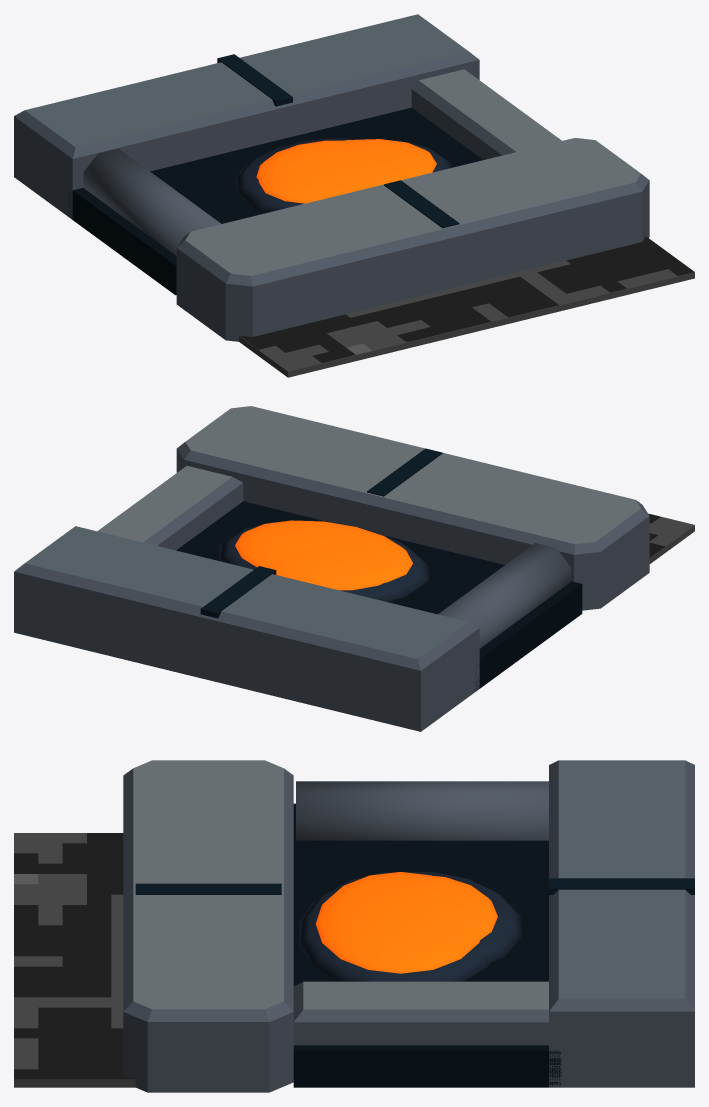
Rendered from newshm-7.glb.
The picture shows the model from 3 angles, top to bottom: view 1: azimuth 30°, elevation 25°; view 2: azimuth 150°, elevation 25°; view 3: azimuth 270°, elevation 25°; orthographic projection. The views are drawn at different scales.
Parts seen in each view (by area): view 1: newshm-7, newshm-7-lamp-11, newshm-7-lamp-9; view 2: newshm-7, newshm-7-lamp-11, newshm-7-lamp-9; view 3: newshm-7, newshm-7-lamp-11, newshm-7-lamp-9.
Part boxes in pixels (box(x1,y1,x2,y2)): newshm-7: box(14, 14, 694, 377); newshm-7-lamp-11: box(242, 139, 452, 212); newshm-7-lamp-9: box(234, 138, 355, 203); newshm-7: box(14, 406, 694, 731); newshm-7-lamp-11: box(218, 520, 429, 592); newshm-7-lamp-9: box(246, 545, 414, 601); newshm-7: box(14, 760, 694, 1092); newshm-7-lamp-11: box(299, 872, 489, 981); newshm-7-lamp-9: box(393, 872, 521, 962).
Size of the model in its own units: 2.08 by 0.325 by 2.33.
